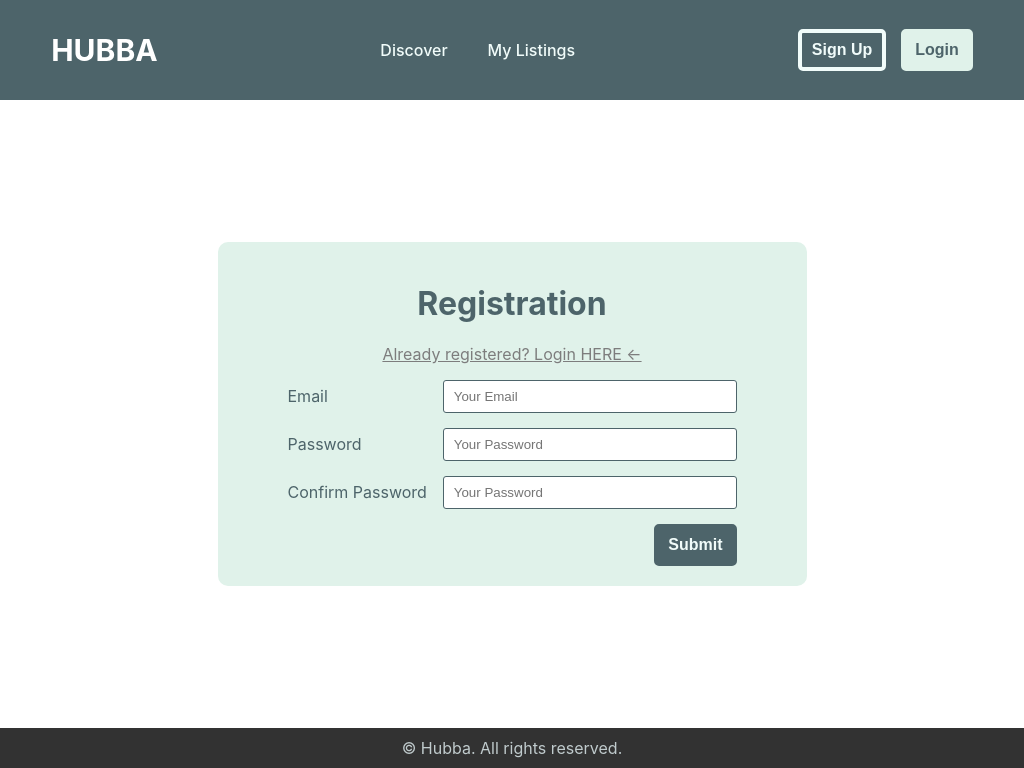
Test: registration failed cases › empty password input
This screenshot has width=1024, height=768.
Type "hubba@gmail.com" into the field with id "email".
click(590, 397); type("hubba@gmail.com")  # box [443, 380, 737, 413]
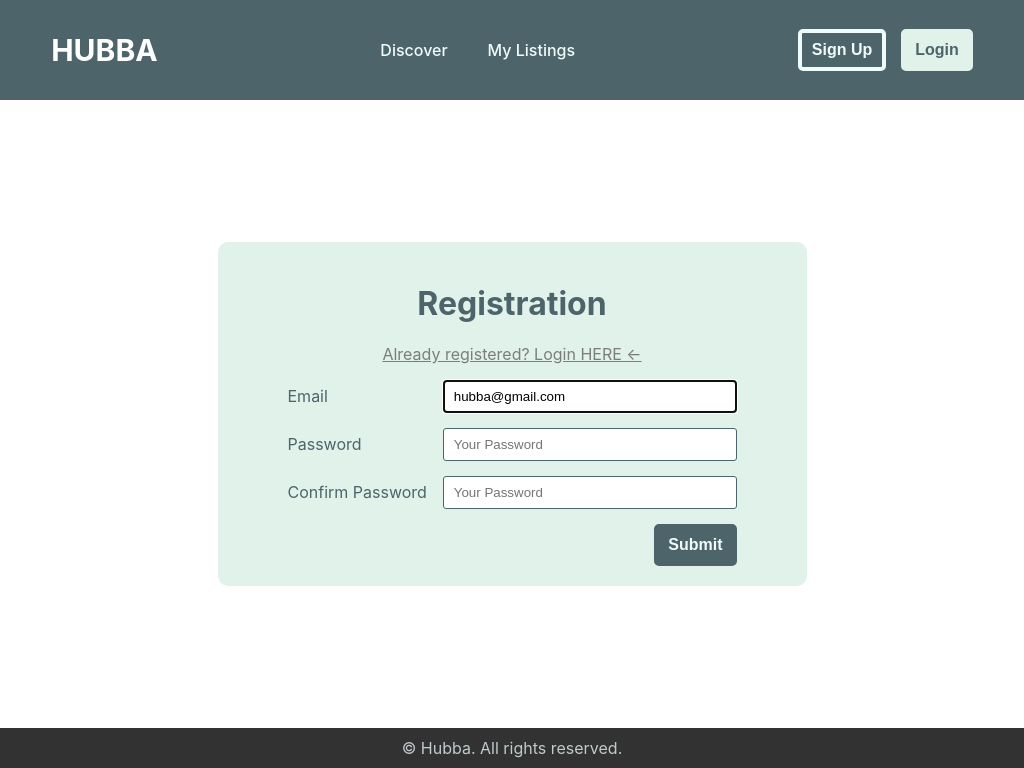
Click the button "Submit".
click(695, 545)  # box [654, 524, 736, 566]
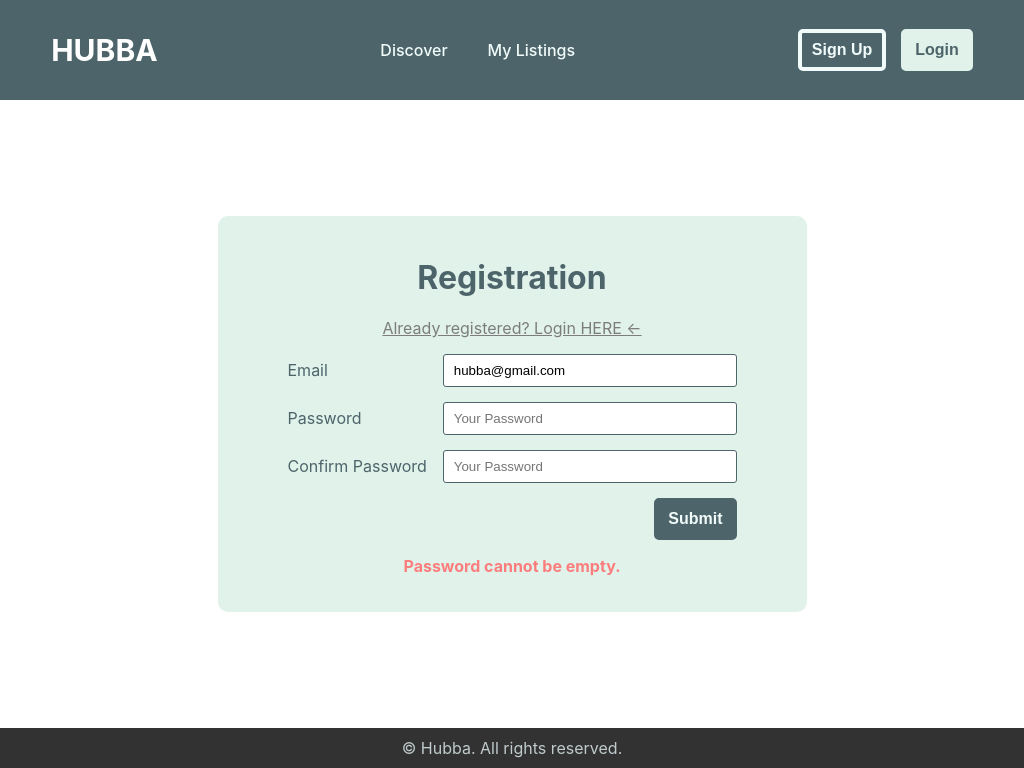
Check: the text "Password cannot be empty." is shown, box [404, 556, 620, 576]
